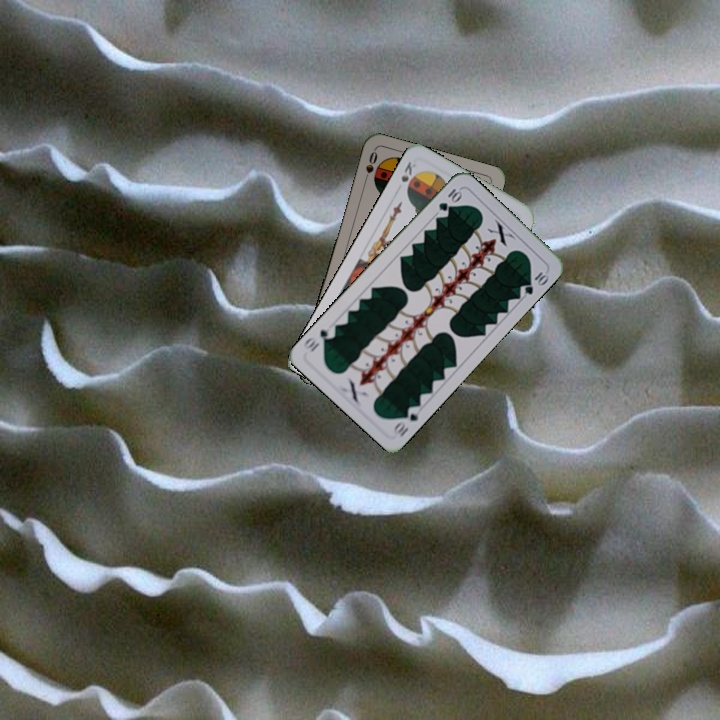G10: (390, 401, 421, 440), (434, 184, 465, 214)
SK: (397, 157, 419, 185)
SO: (360, 147, 380, 187)
